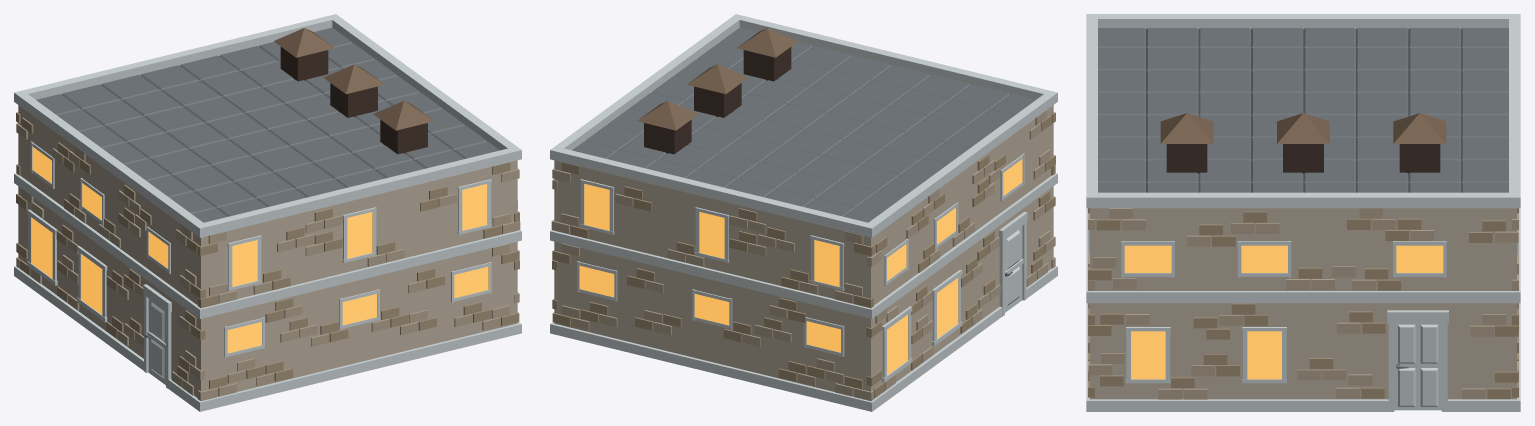
The model's file is SM_House_15_A.fbx.
The picture shows the model from 3 angles, left to right: view 1: azimuth 30°, elevation 25°; view 2: azimuth 150°, elevation 25°; view 3: azimuth 270°, elevation 25°; orthographic projection. The views are drawn at different scales.
Visible parts, largest first — view 1: SM_House_15_A_LOD0; view 2: SM_House_15_A_LOD0; view 3: SM_House_15_A_LOD0.
Boxes of the visible parts, box(x1,y1,x2,y2) form: SM_House_15_A_LOD0: box(14, 14, 521, 411); SM_House_15_A_LOD0: box(550, 14, 1057, 411); SM_House_15_A_LOD0: box(1086, 14, 1520, 411).
Bounding box in the file's own units: 964 × 952 × 619.
Materials: 1 (1 with a texture image).
